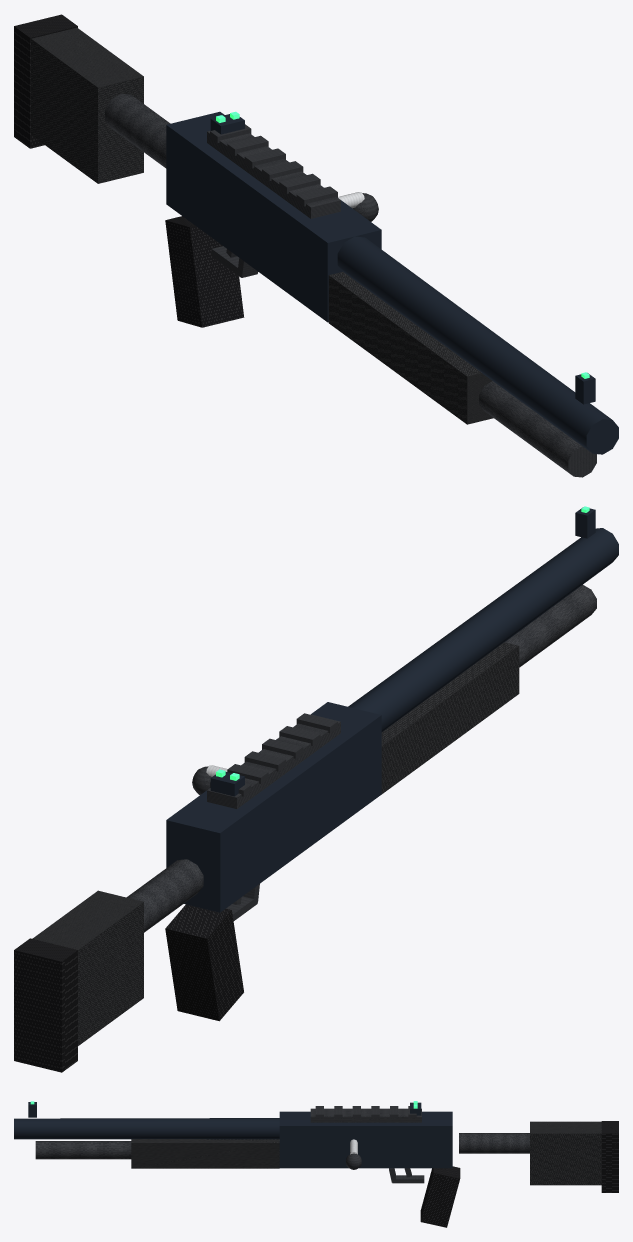
3 views of the same model, one above another, from view 1: azimuth 30°, elevation 25°; view 2: azimuth 150°, elevation 25°; view 3: azimuth 270°, elevation 25° (orthographic). The views are drawn at different scales.
Parts seen in each view (by area): view 1: weapon_m1014, BoltHandleNode; view 2: weapon_m1014; view 3: weapon_m1014, BoltHandleNode.
Part boxes in pixels (x1,y1,x2,y2): weapon_m1014: (14,14,618,477); BoltHandleNode: (338,192,378,221); weapon_m1014: (14,506,618,1072); weapon_m1014: (14,1101,618,1227); BoltHandleNode: (346,1139,361,1169).
Bounding box in the file's own units: 0.1185 × 0.2149 × 0.979.
Materials: 7 (4 with a texture image).
